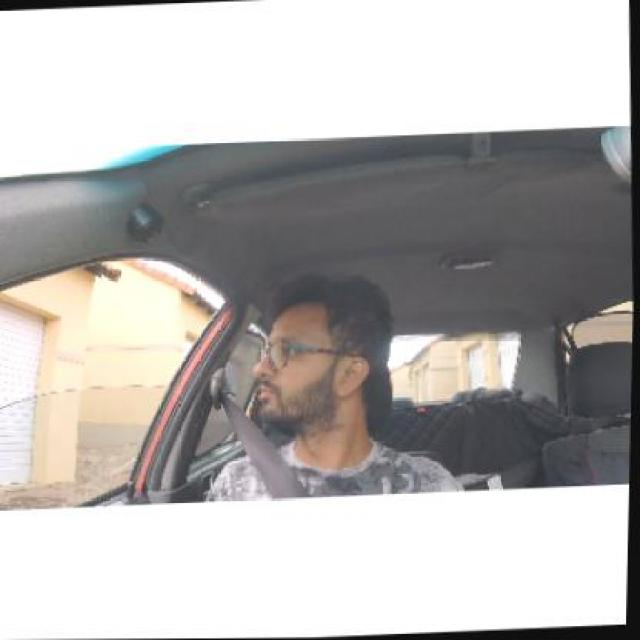LeftRight: (256, 284, 386, 437)
